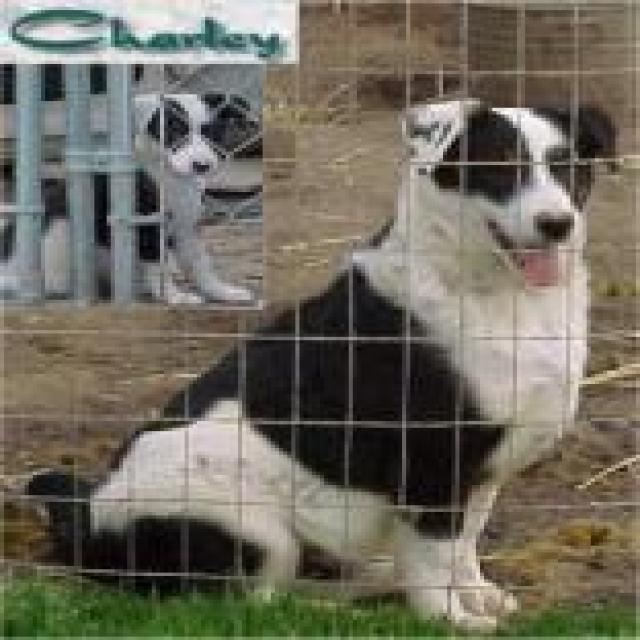Dogs: (8, 91, 616, 633)
